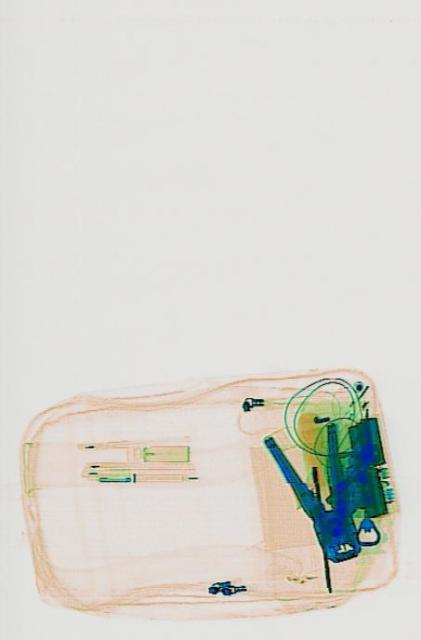Pliers: (259, 396, 371, 584)
